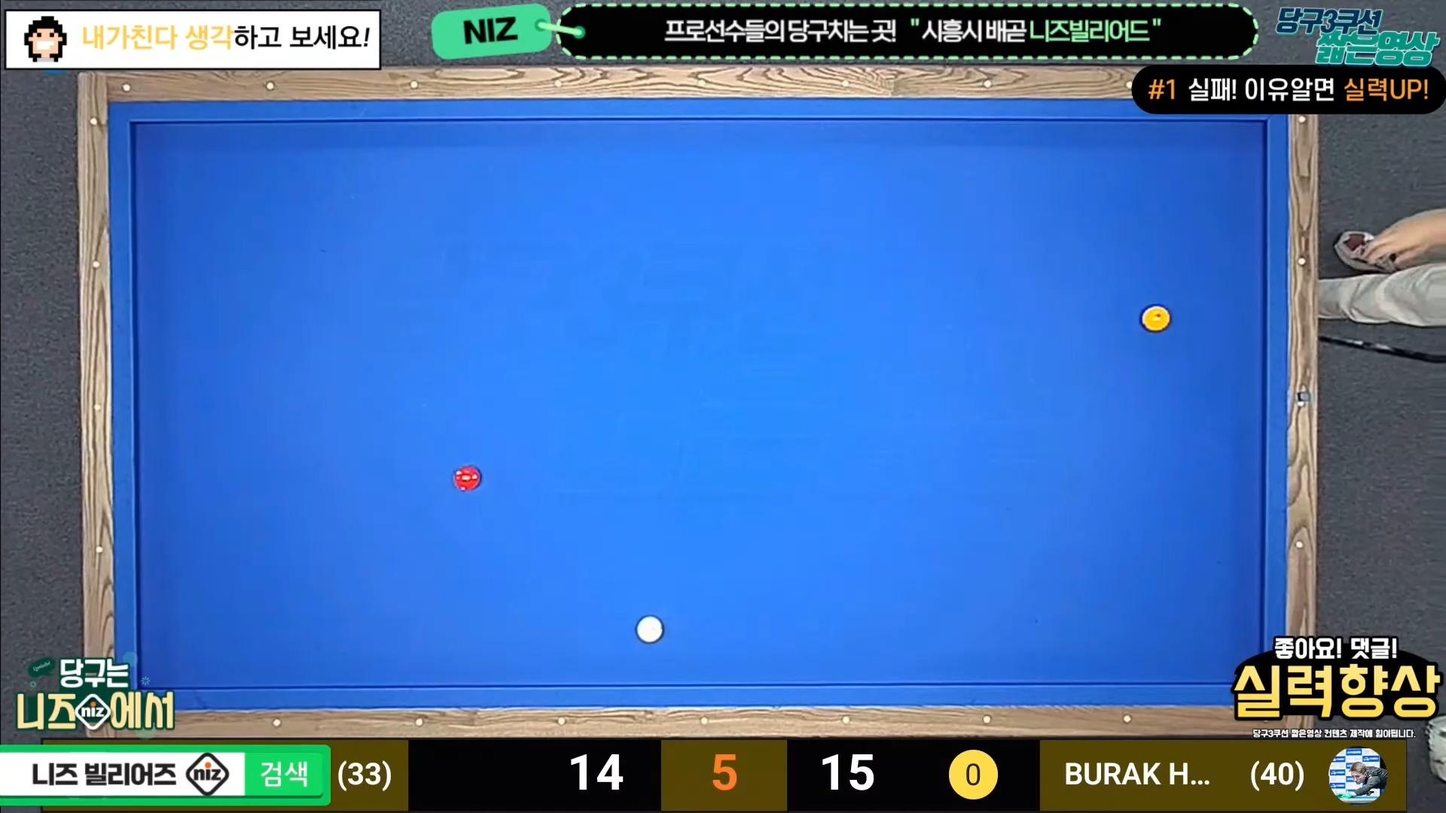Red: (453, 467, 487, 494)
White: (633, 617, 665, 645)
Yellow: (1137, 305, 1173, 334)
